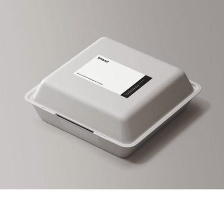foam_box: (17, 30, 205, 163)
